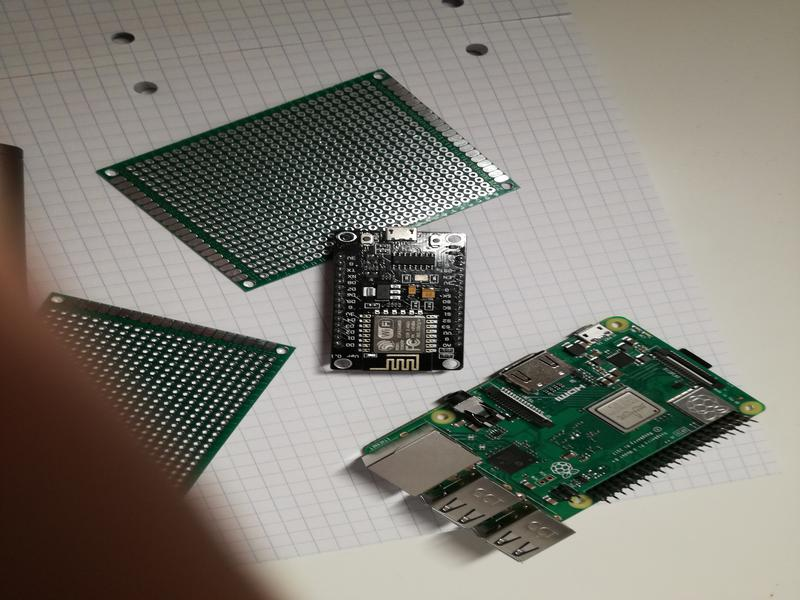ESP8266: (317, 225, 477, 374)
Raspberry_Pi_3: (352, 314, 772, 563)
